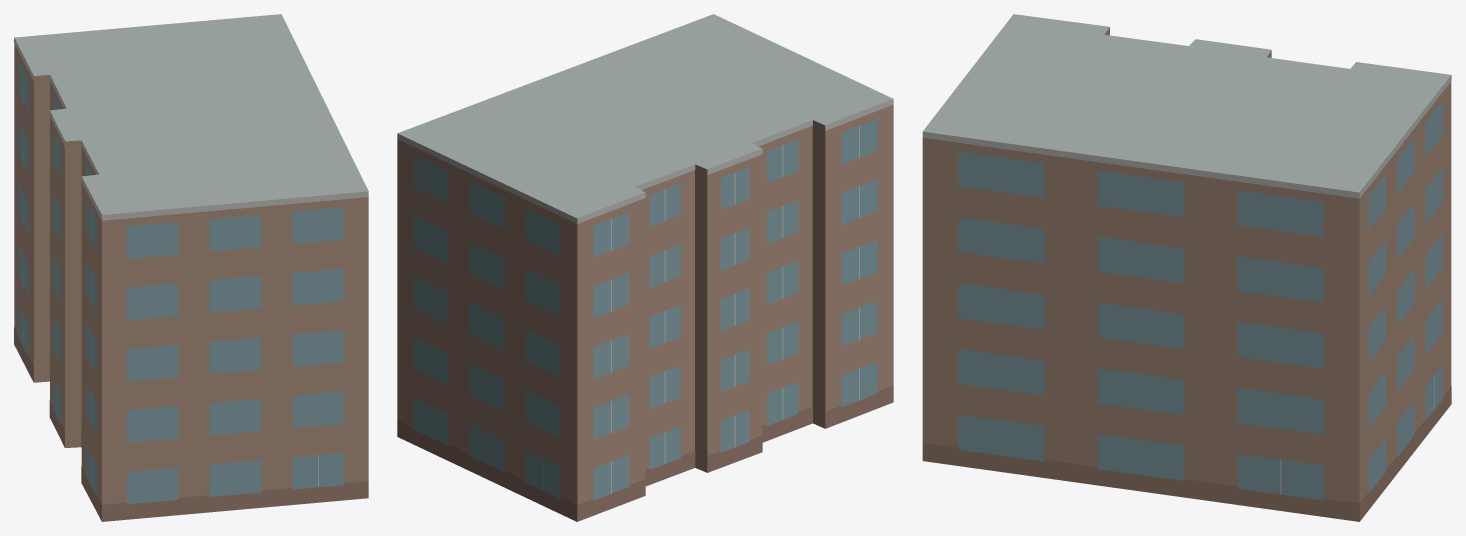
The model's file is survey-upis-32942532.glb.
3 renders of one model, left to right at view 1: azimuth 30°, elevation 25°; view 2: azimuth 150°, elevation 25°; view 3: azimuth 270°, elevation 25°, orthographic. The views are drawn at different scales.
Parts seen in each view (by area): view 1: survey-upis-32942532.tmp; view 2: survey-upis-32942532.tmp; view 3: survey-upis-32942532.tmp.
Part boxes in pixels (bbox=[...]): survey-upis-32942532.tmp: bbox=[14, 14, 368, 521]; survey-upis-32942532.tmp: bbox=[397, 14, 893, 521]; survey-upis-32942532.tmp: bbox=[922, 14, 1451, 521].
Size of the model in its own units: 15.23 by 13.1 by 19.07.
